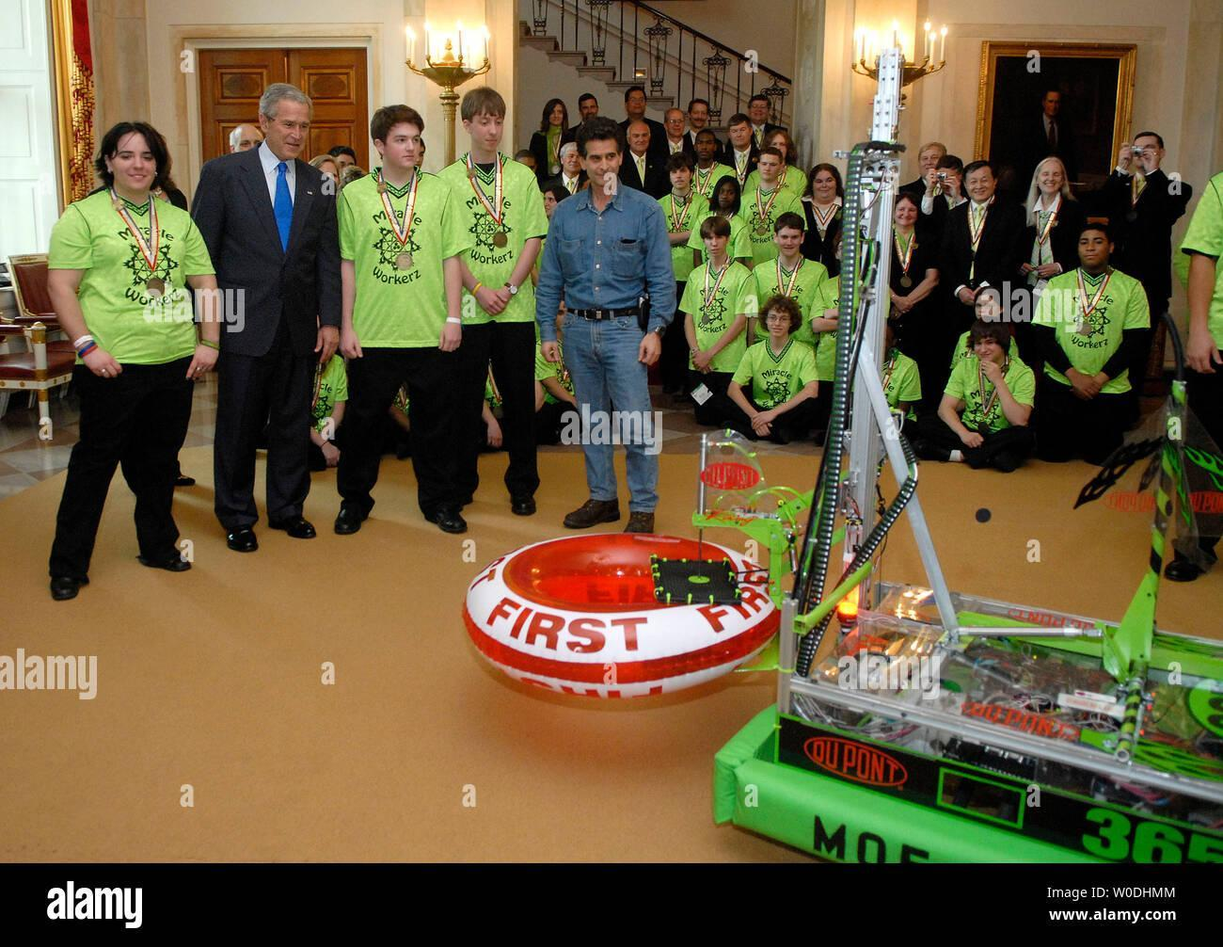robot: (710, 32, 1223, 871)
